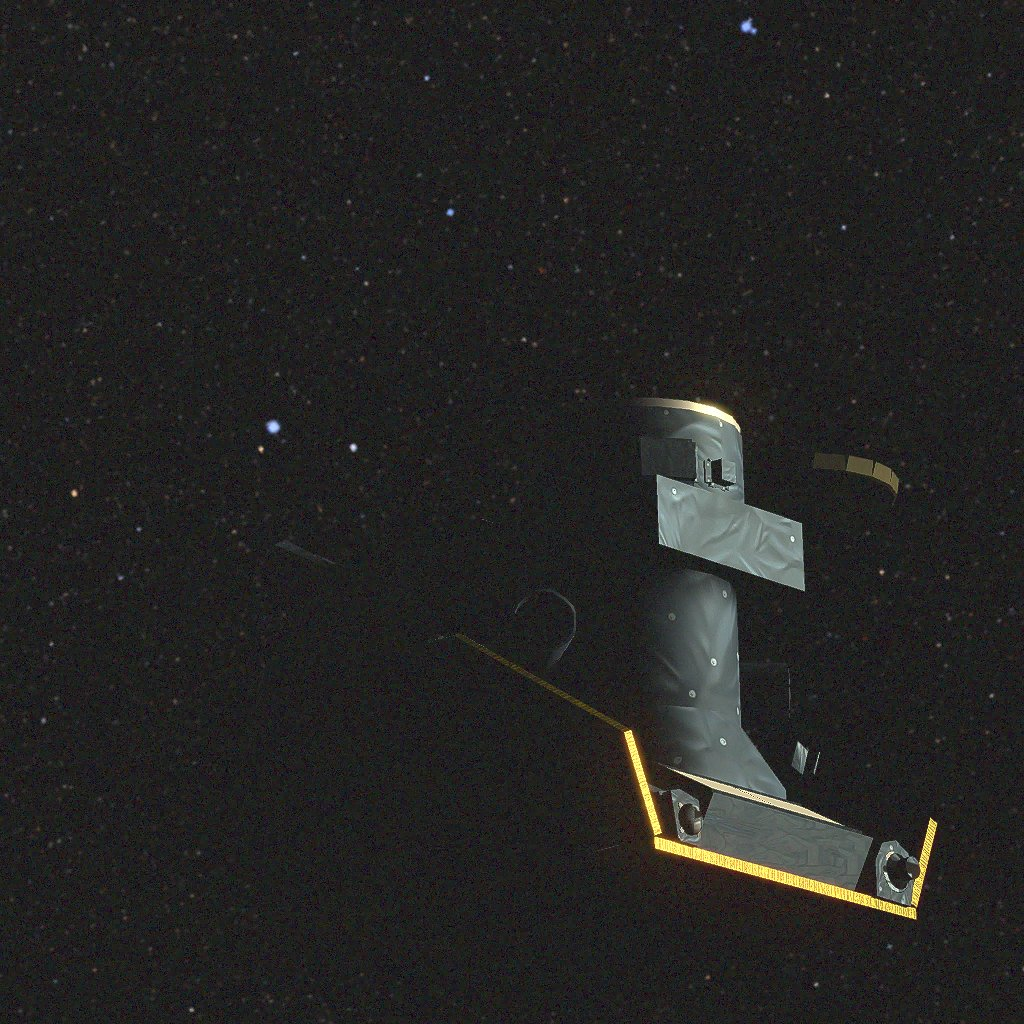cheops: (199, 398, 937, 1012)
